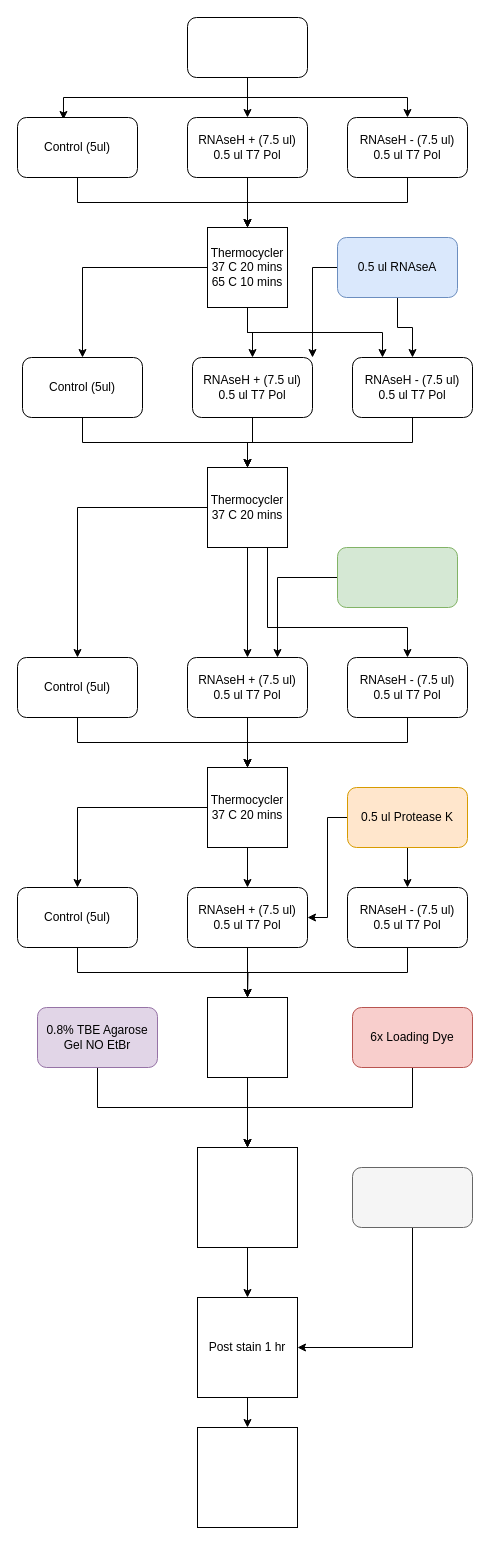
Image size: 490x1545. Some labels were removed from this diagram. The shapes that lost their labels are listed below. From the top down, each one's centre as x and y in pixels, then its label:
point (247, 47): Master mix (see reagents)
point (397, 577): 0.5 ul RNAseH
point (247, 1037): Thermocycler 37 C 10 mins
point (247, 1197): Electrophoresis 60 mins @ 90 V
point (412, 1197): 2 ul EtBr Post Stain
point (247, 1477): Image
